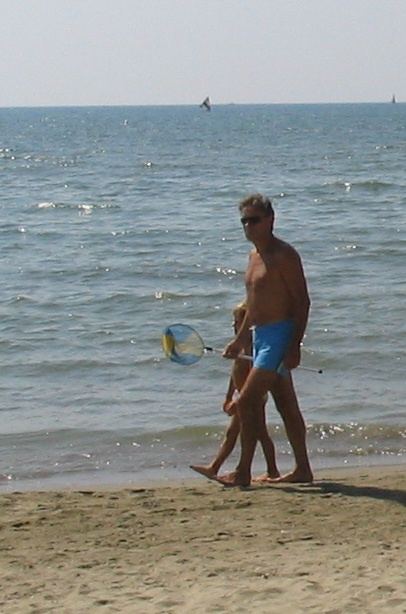person: (231, 192, 314, 487)
